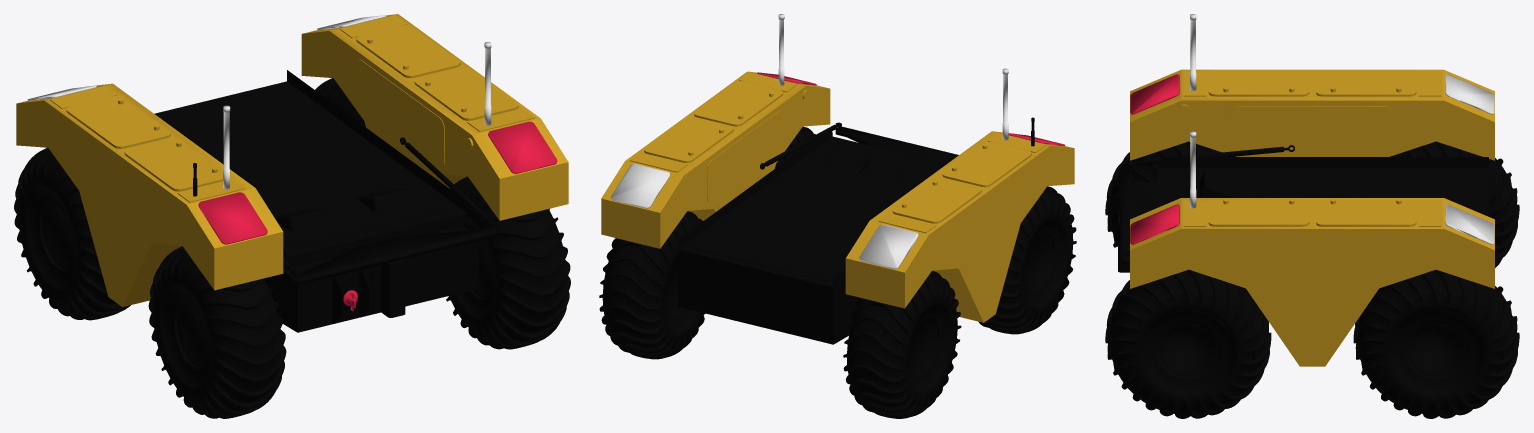
File: warthog.glb
3 views of the same model, side by side, from view 1: azimuth 30°, elevation 25°; view 2: azimuth 150°, elevation 25°; view 3: azimuth 270°, elevation 25° (orthographic). The views are drawn at different scales.
Visible parts, largest first — view 1: fenders, chassis, Wheel RL, Wheel RR, Wheel FL, Rear Headlight, diff-link, antenna_left, susp-link, Wheel FR, Front Headlight; view 2: fenders, chassis, Wheel FL, Wheel FR, Wheel RL, Front Headlight, diff-link, antenna_left, susp-link; view 3: fenders, Wheel RR, Wheel FR, chassis, Wheel FL, Rear Headlight, Front Headlight, Wheel RL, diff-link, antenna_left, susp-link.
Part boxes in pixels (box(x1,y1,x2,y2)): fenders: box(16, 14, 568, 306); chassis: box(154, 70, 478, 332); Wheel RL: box(148, 246, 286, 418); Wheel RR: box(446, 176, 570, 349); Wheel FL: box(14, 147, 130, 320); Rear Headlight: box(198, 121, 557, 244); diff-link: box(290, 226, 497, 284); antenna_left: box(223, 42, 491, 189); susp-link: box(283, 137, 495, 274); Wheel FR: box(315, 78, 365, 126); Front Headlight: box(27, 15, 386, 100); fenders: box(601, 71, 1074, 322); chassis: box(678, 129, 945, 344); Wheel FL: box(843, 271, 961, 418); Wheel FR: box(599, 211, 705, 359); Wheel RL: box(978, 186, 1076, 334); Front Headlight: box(610, 163, 918, 269); diff-link: box(835, 126, 958, 164); antenna_left: box(778, 14, 1008, 140); susp-link: box(760, 122, 841, 169); fenders: box(1130, 69, 1494, 366); Wheel RR: box(1105, 269, 1271, 418); Wheel FR: box(1353, 269, 1519, 418); chassis: box(1118, 157, 1488, 315); Wheel FL: box(1389, 141, 1519, 267); Rear Headlight: box(1130, 74, 1179, 244); Front Headlight: box(1445, 74, 1494, 244); Wheel RL: box(1105, 141, 1235, 247); diff-link: box(1119, 167, 1153, 264); antenna_left: box(1190, 14, 1196, 208); susp-link: box(1124, 145, 1294, 255).
Size of the model in its own units: 1.38 by 1.11 by 1.52.
